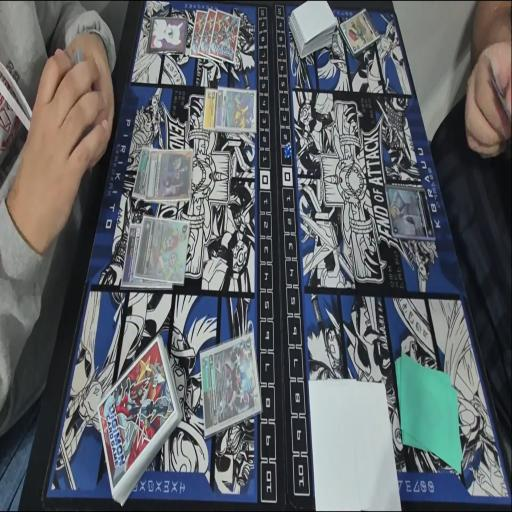card: (197, 328, 259, 430), (133, 222, 192, 284), (145, 148, 192, 204), (385, 186, 435, 238), (338, 8, 380, 58), (216, 87, 258, 135), (117, 226, 143, 293), (131, 153, 153, 206), (201, 90, 221, 136)
